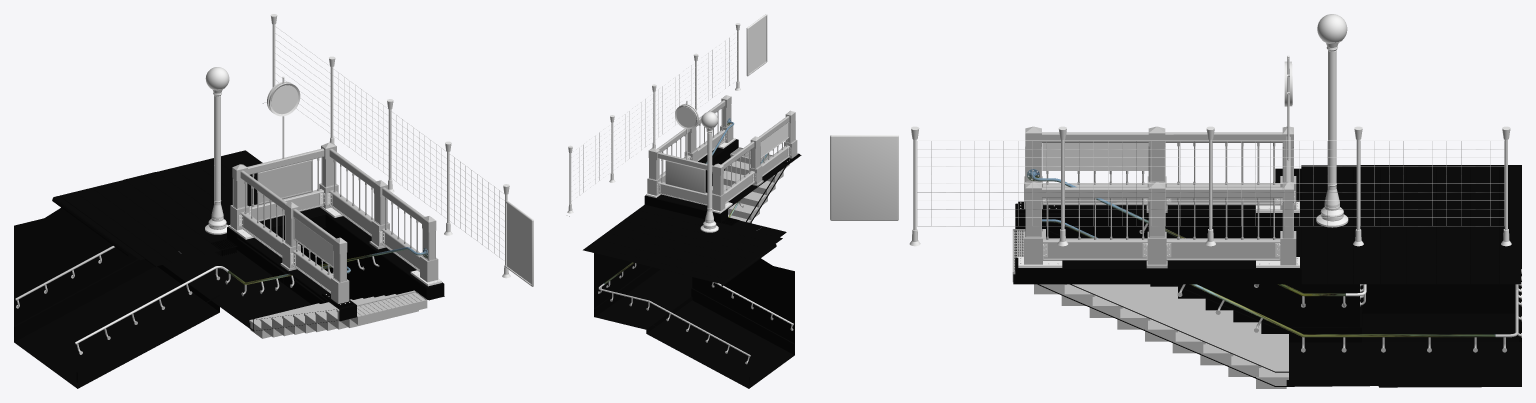
File: finaltunnel2.fbx
The picture shows the model from 3 angles, left to right: view 1: azimuth 30°, elevation 25°; view 2: azimuth 150°, elevation 25°; view 3: azimuth 270°, elevation 25°; orthographic projection. The views are drawn at different scales.
Visible parts, largest first — view 1: Plane01, tunnelfinal, fence, ChamferBox02, Cylinder16, ChamferBox01, top, Box21, Cylinder17, Line03; view 2: Plane01, tunnelfinal, fence, ChamferBox02, Cylinder16, ChamferBox01, Box21, Cylinder48, Line35, Box24, Box26, Box23 (+3 smaller); view 3: Plane01, tunnelfinal, fence, ChamferBox02, Box21, Cylinder16, Box29, Box28, Box27, Box30, Box31, Line01 (+9 smaller).
Part boxes in pixels (x1,y1,x2,y2): Plane01: (14, 103, 444, 388); tunnelfinal: (228, 76, 441, 304); fence: (275, 26, 504, 260); ChamferBox02: (505, 200, 533, 286); Cylinder16: (205, 67, 229, 234); ChamferBox01: (257, 159, 312, 204); top: (350, 290, 427, 324); Box21: (293, 217, 333, 267); Cylinder17: (269, 83, 300, 116); Line03: (75, 266, 228, 344); Plane01: (569, 139, 801, 388); tunnelfinal: (646, 95, 797, 213); fence: (571, 33, 736, 201); ChamferBox02: (746, 14, 767, 76); Cylinder16: (700, 111, 718, 232); ChamferBox01: (665, 160, 705, 193); Box21: (760, 122, 789, 157); Cylinder48: (675, 105, 697, 129); Line35: (598, 283, 750, 356); Box24: (723, 170, 775, 194); Box26: (728, 203, 759, 219); Box23: (724, 161, 783, 182); Plane01: (1013, 165, 1521, 387); tunnelfinal: (1018, 55, 1299, 268); fence: (917, 140, 1504, 226); ChamferBox02: (830, 135, 898, 220); Box21: (1042, 143, 1148, 170); Cylinder16: (1316, 14, 1348, 227); Box29: (1200, 310, 1233, 365); Box28: (1172, 298, 1205, 353); Box27: (1145, 286, 1177, 341); Box30: (1228, 322, 1261, 376); Box31: (1256, 334, 1288, 388); Line01: (1042, 219, 1495, 337).
Size of the model in its own units: 861 by 943 by 1562.
